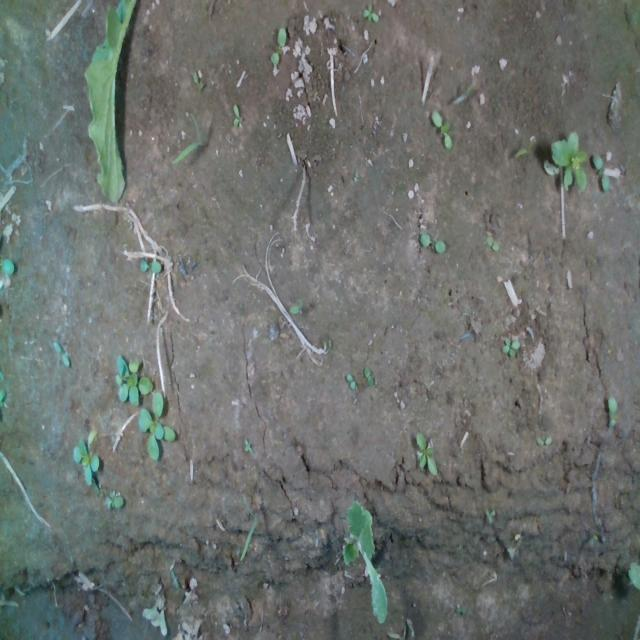weed: (415, 430, 437, 476), (430, 109, 452, 148), (592, 152, 610, 193), (270, 25, 286, 64), (420, 231, 446, 253), (103, 487, 123, 509), (501, 336, 520, 358), (606, 394, 618, 428), (139, 257, 162, 274), (232, 102, 244, 129), (362, 3, 378, 21), (363, 364, 375, 386), (288, 297, 302, 315), (191, 69, 203, 90), (485, 234, 499, 250), (535, 435, 553, 447), (345, 371, 355, 389), (484, 508, 496, 522), (243, 437, 253, 452)
